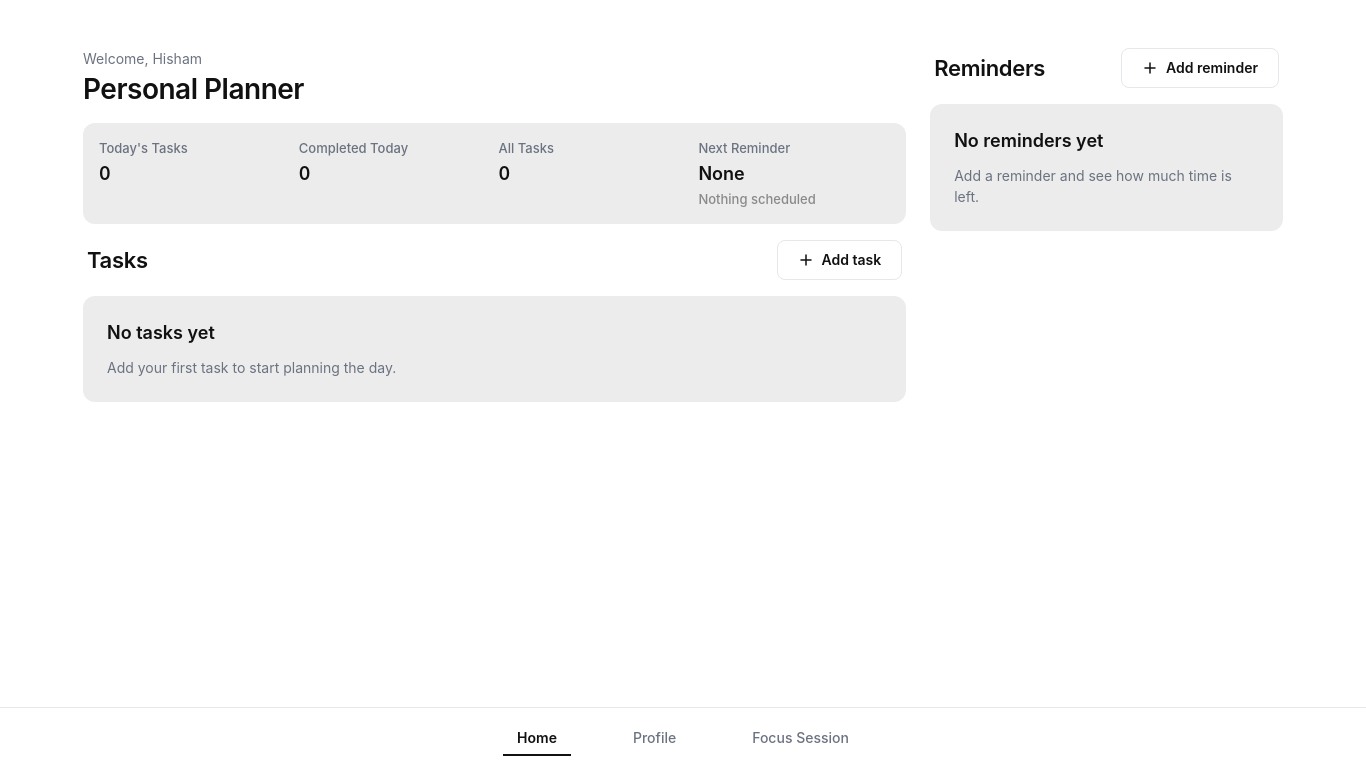
Scenario: task flow › rejects a blank title without creating a task
The width and height of the screenshot is (1366, 768).
Expected: the heading "Personal Planner" is shown, [83,72,304,106]
What coordinates should you click on to do the following:
click the button "Add task"
I would click on:
 (839, 260)
Its box is [776,240,902,280].
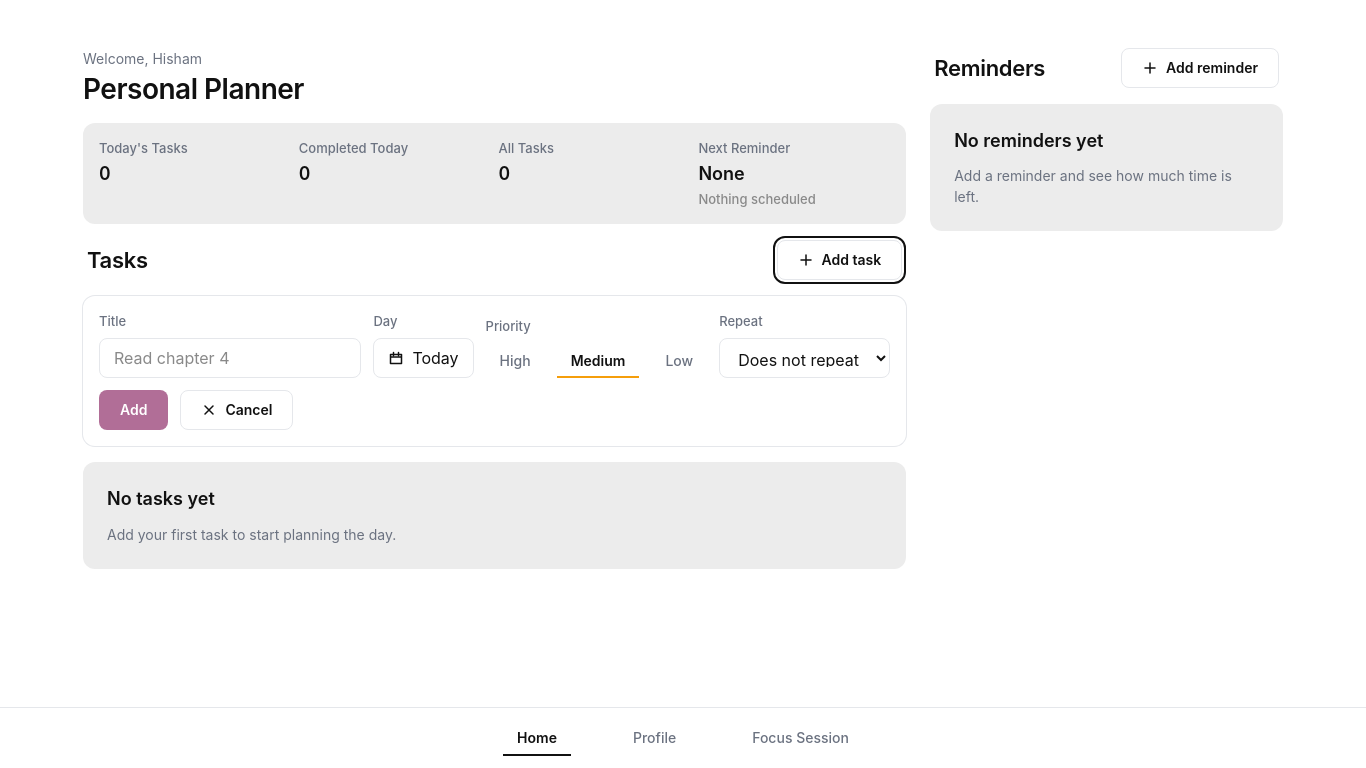
Expected: the form named "Add task" is shown, [83,296,906,446]
What coordinates should you click on to do the following:
click the button "Add"
I would click on:
 (134, 410)
Its box is [99,390,168,430].
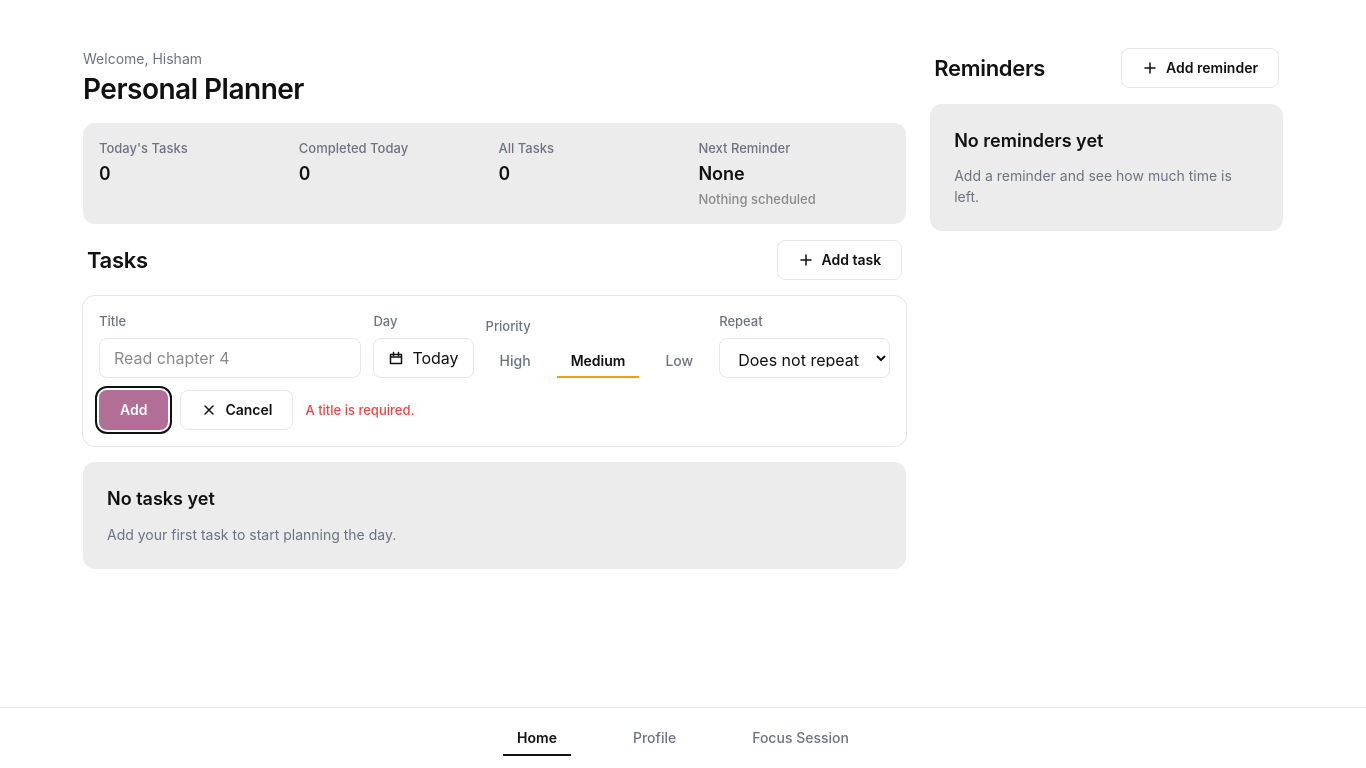
Expected: the message reads "A title is required.", [306,402,414,418]
